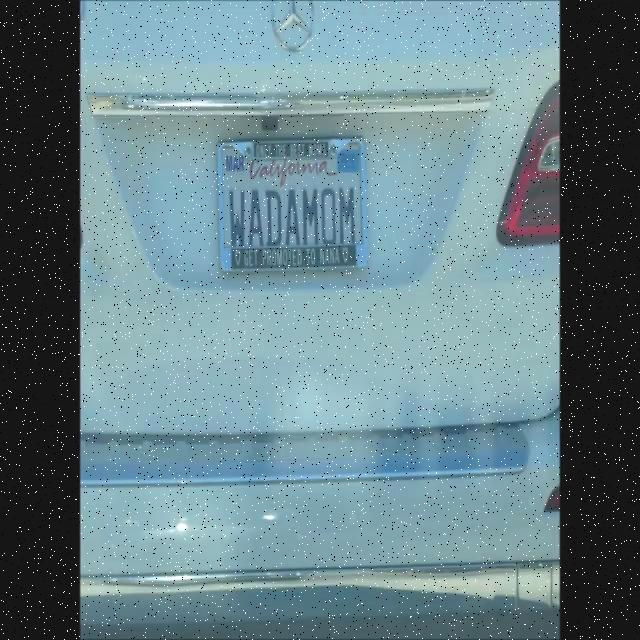licenseplate: (205, 125, 377, 288)
